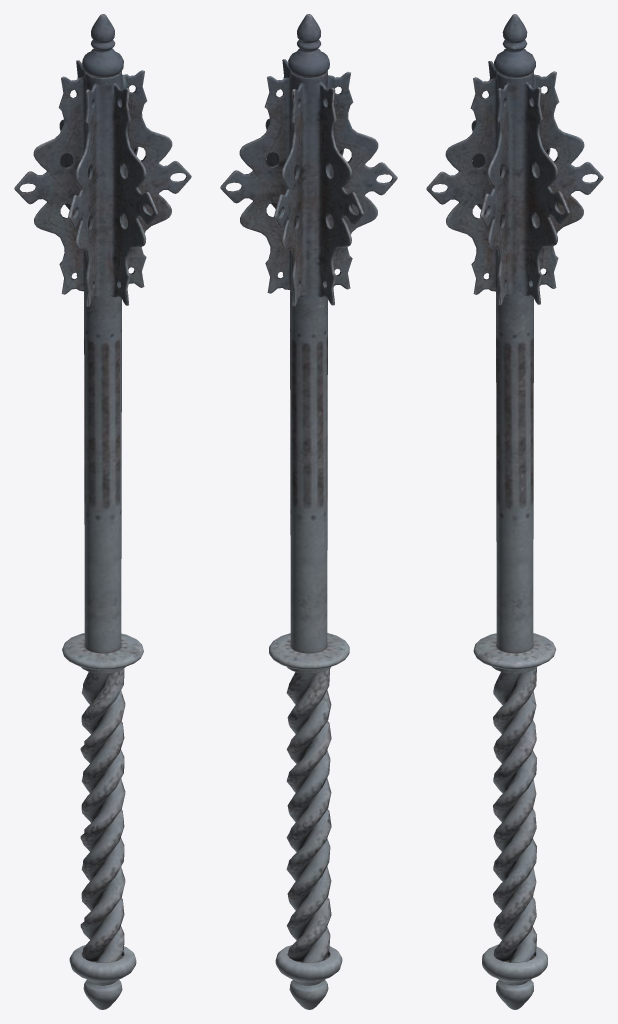
Rendered from ornate_medieval_mace_1k.gltf.
The picture shows the model from 3 angles, left to right: view 1: azimuth 30°, elevation 25°; view 2: azimuth 150°, elevation 25°; view 3: azimuth 270°, elevation 25°; orthographic projection.
Parts seen in each view (by area): view 1: ornate_medieval_mace; view 2: ornate_medieval_mace; view 3: ornate_medieval_mace.
Part boxes in pixels (left/top/right/bottom): ornate_medieval_mace: left=14, top=14, right=191, bottom=1009; ornate_medieval_mace: left=220, top=14, right=397, bottom=1009; ornate_medieval_mace: left=426, top=14, right=603, bottom=1009.
Size of the model in its own units: 0.0949 by 0.63 by 0.1017.
Materials: 1 (1 with a texture image).
